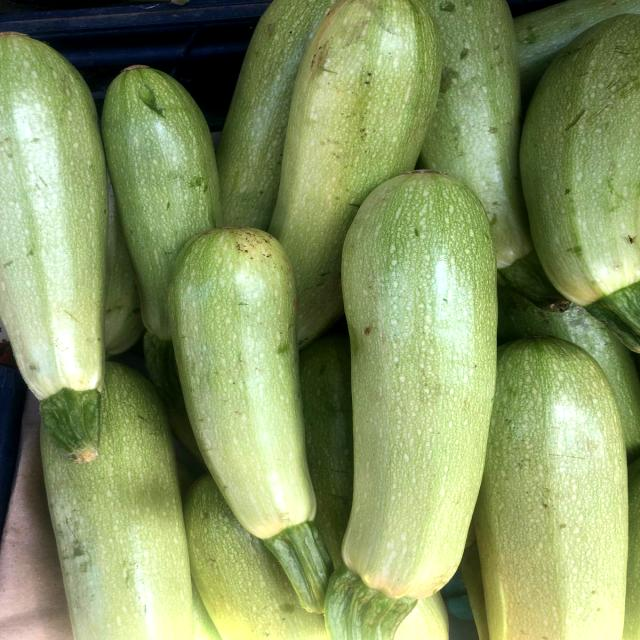zucchini: (312, 154, 517, 640), (157, 209, 343, 611), (0, 10, 136, 469)
